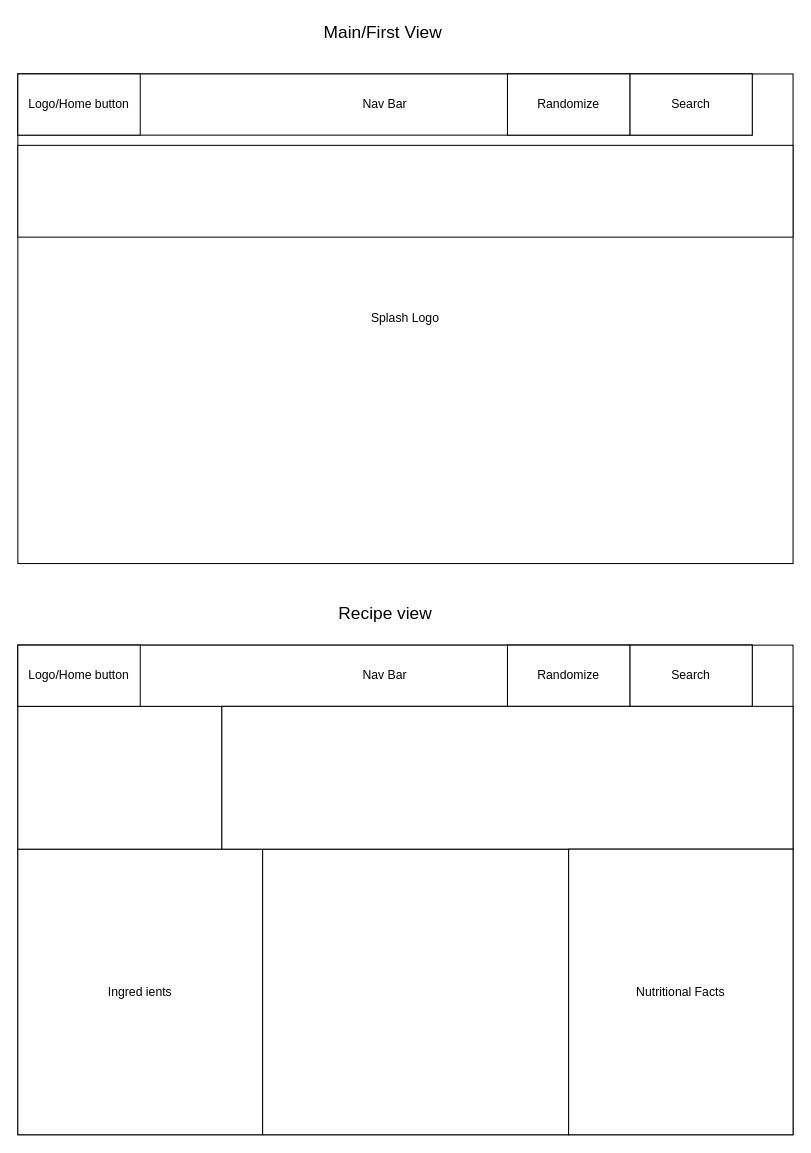
The diagram is 811 pixels wide and 1153 high, and some of its shapes have lost their labels. The shapes that lost their labels are listed below. From the top down, each one's centre as x and y in pixels, then its label:
(x=405, y=190): Catogory Selection
(x=119, y=777): Recipe image
(x=507, y=777): Recipe Name class = "recipe bulma-box bulma-main" id="repName"
(x=415, y=991): Instructions
